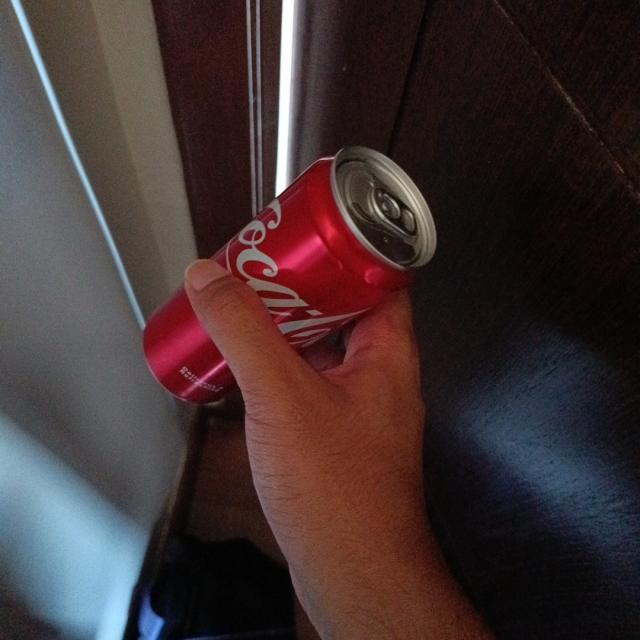coke: (142, 143, 437, 407)
